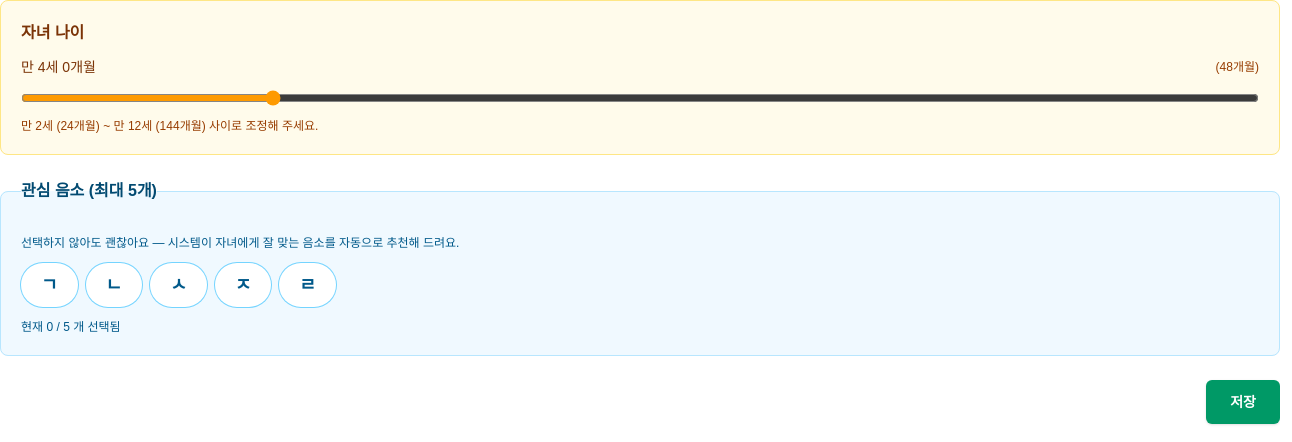
Test: ChildProfileForm — FR-C-PARENT-SETTINGS › [3] slider 변경 → display 라벨 업데이트
The width and height of the screenshot is (1292, 442).
Set the slider with test id "child-profile-age-slider" to "72" at (518, 98), box [21,90,1259,106]
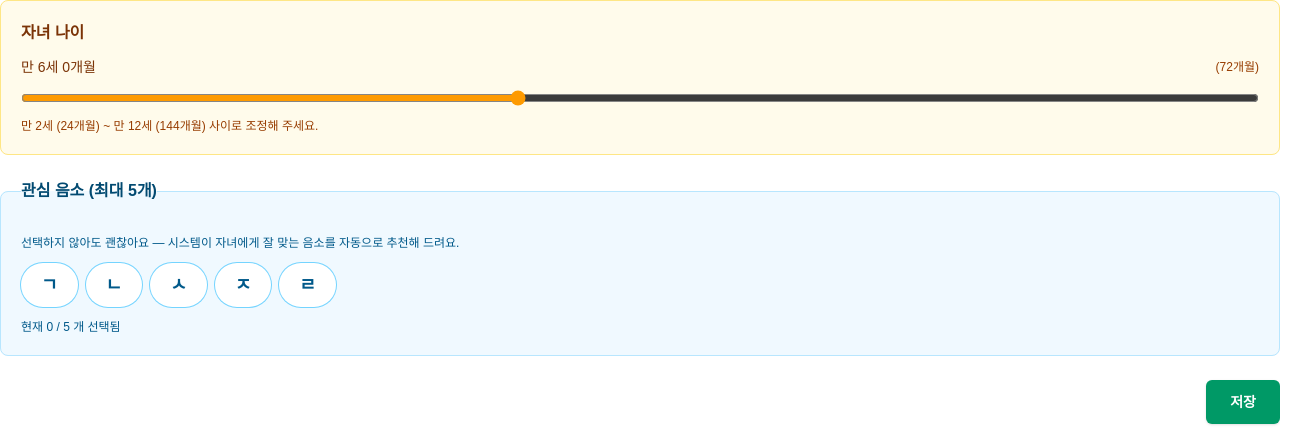
Check: the text with test id "child-profile-age-display" shows "만 6세", box [21,57,96,77]
